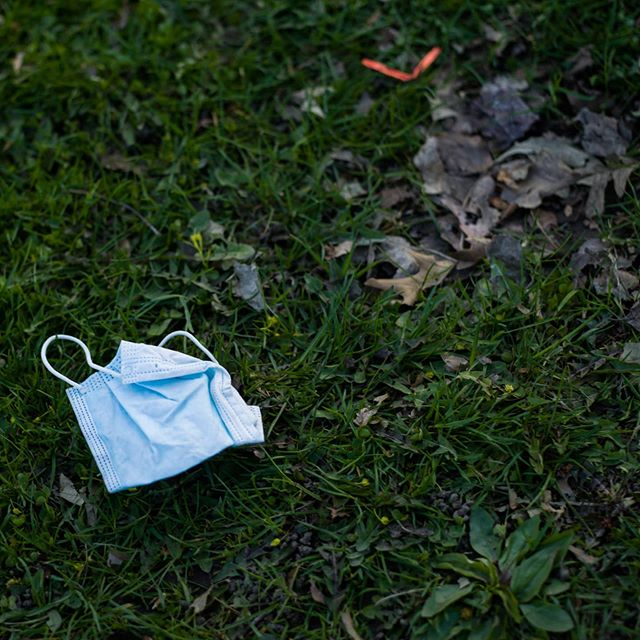trash: (18, 292, 325, 507)
vegetation: (11, 10, 640, 640)
